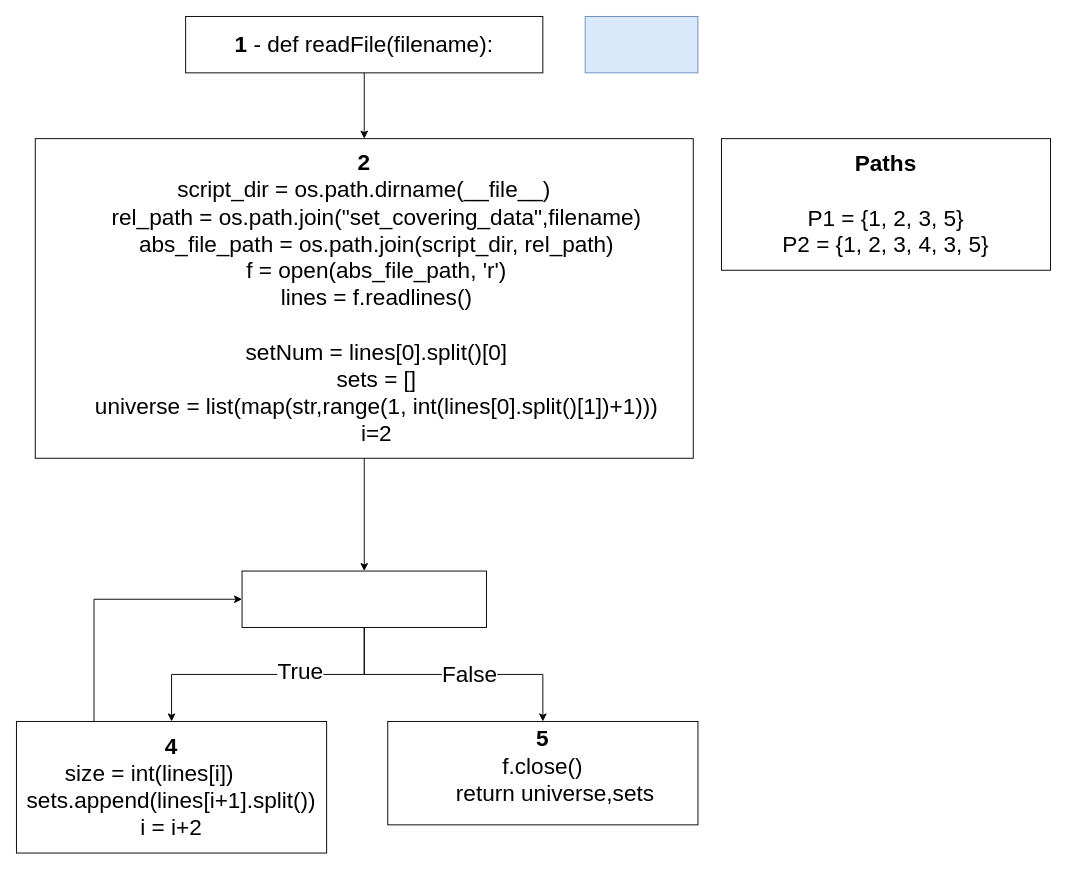
The diagram is 1067 pixels wide and 870 high, and some of its shapes have lost their labels. The box of each missing label's shape, as (x1, y1, x2, y2) in pixels:
3 while i<len(lines):: (241, 570, 486, 627)
Vg = 2: (584, 16, 698, 73)
